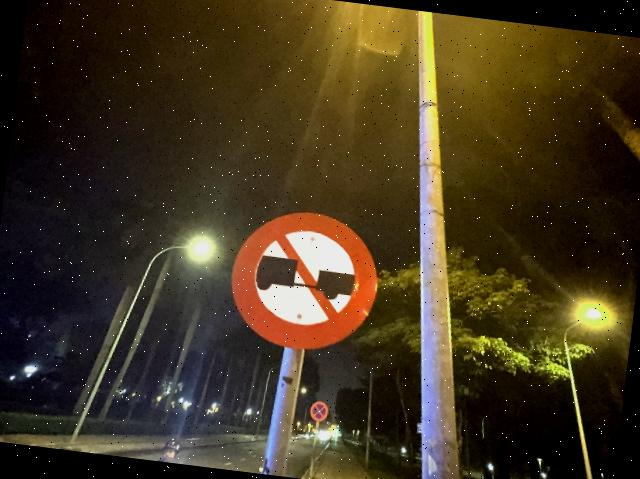cam-xe-somi-romooc: (224, 203, 386, 359)
